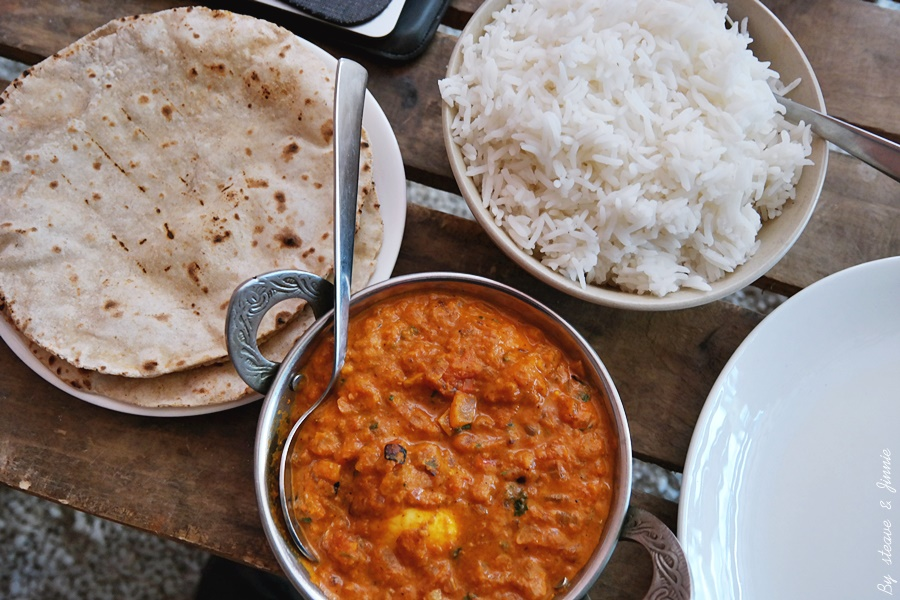plain rice: (468, 4, 796, 286)
